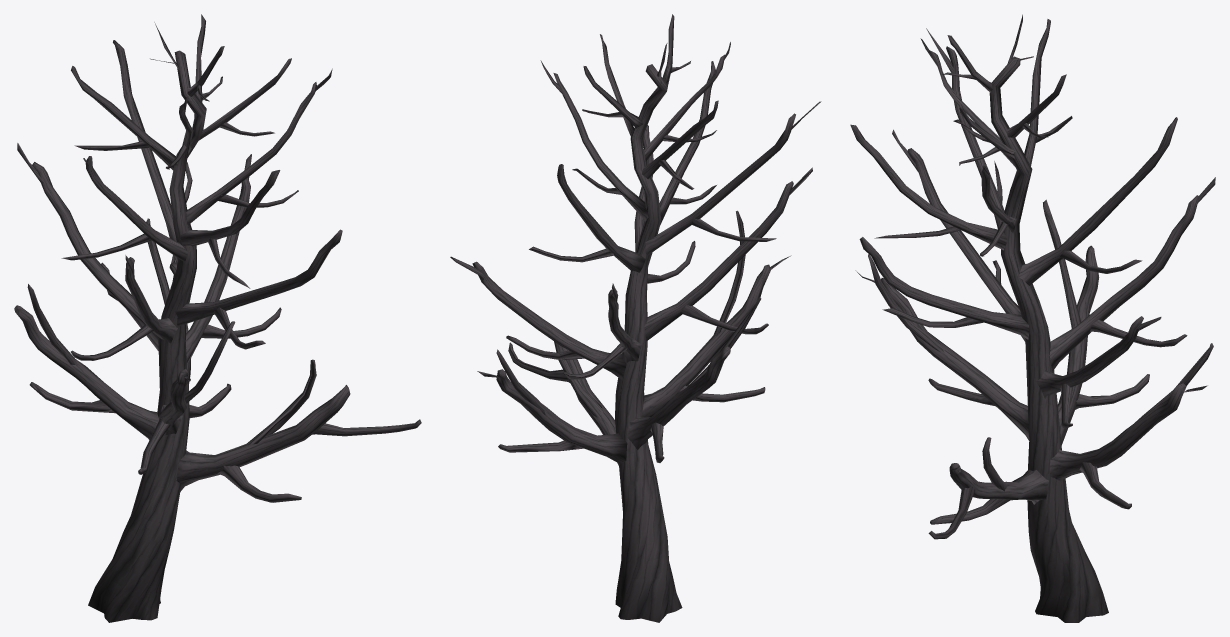
Rendered from dead-tree.glb.
3 views of the same model, side by side, from view 1: azimuth 30°, elevation 25°; view 2: azimuth 150°, elevation 25°; view 3: azimuth 270°, elevation 25° (orthographic). The views are drawn at different scales.
Parts seen in each view (by area): view 1: DeadTree_2; view 2: DeadTree_2; view 3: DeadTree_2.
Part boxes in pixels (x1=…): DeadTree_2: x1=14, y1=14, x2=421, y2=622; DeadTree_2: x1=450, y1=14, x2=821, y2=622; DeadTree_2: x1=850, y1=14, x2=1215, y2=622.
Bounding box in the file's own units: 6.72 × 11.39 × 6.34.
Materials: 1 (1 with a texture image).
